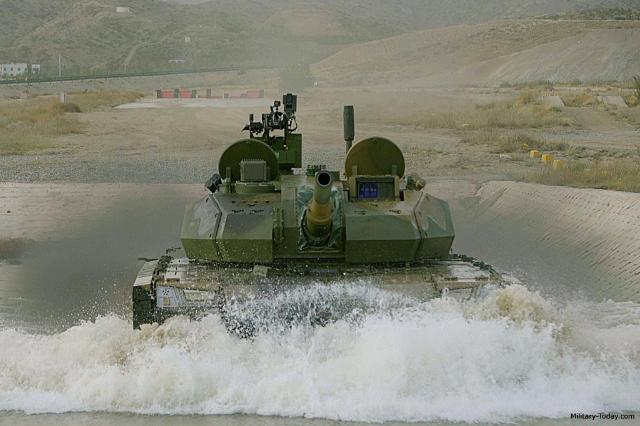tank: (132, 135, 498, 335)
